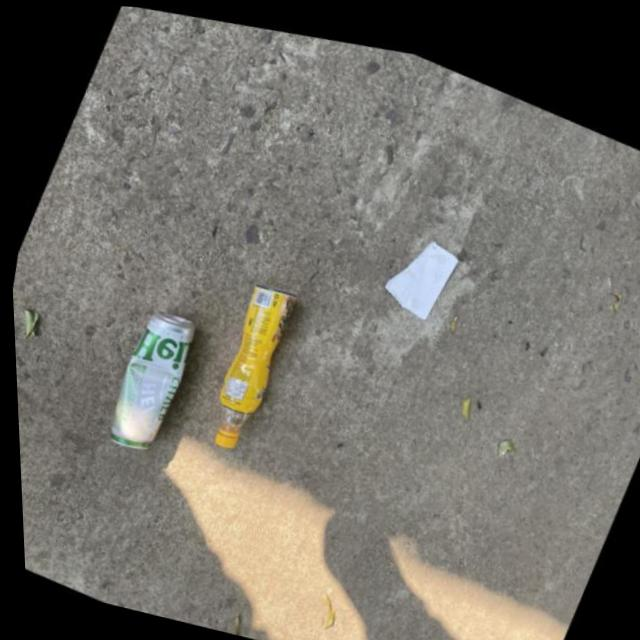clothes: (77, 264, 221, 482)
food: (342, 175, 498, 367)
leaf: (170, 218, 335, 501)
